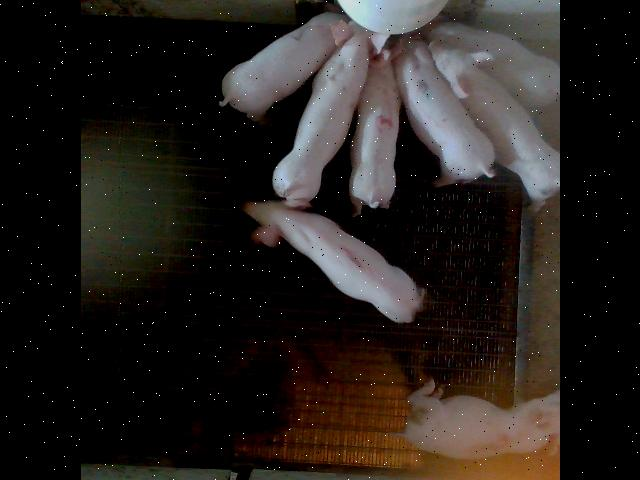pig-1: (242, 201, 422, 321)
pig-3: (400, 380, 558, 459)
pig-4: (349, 49, 399, 210)
